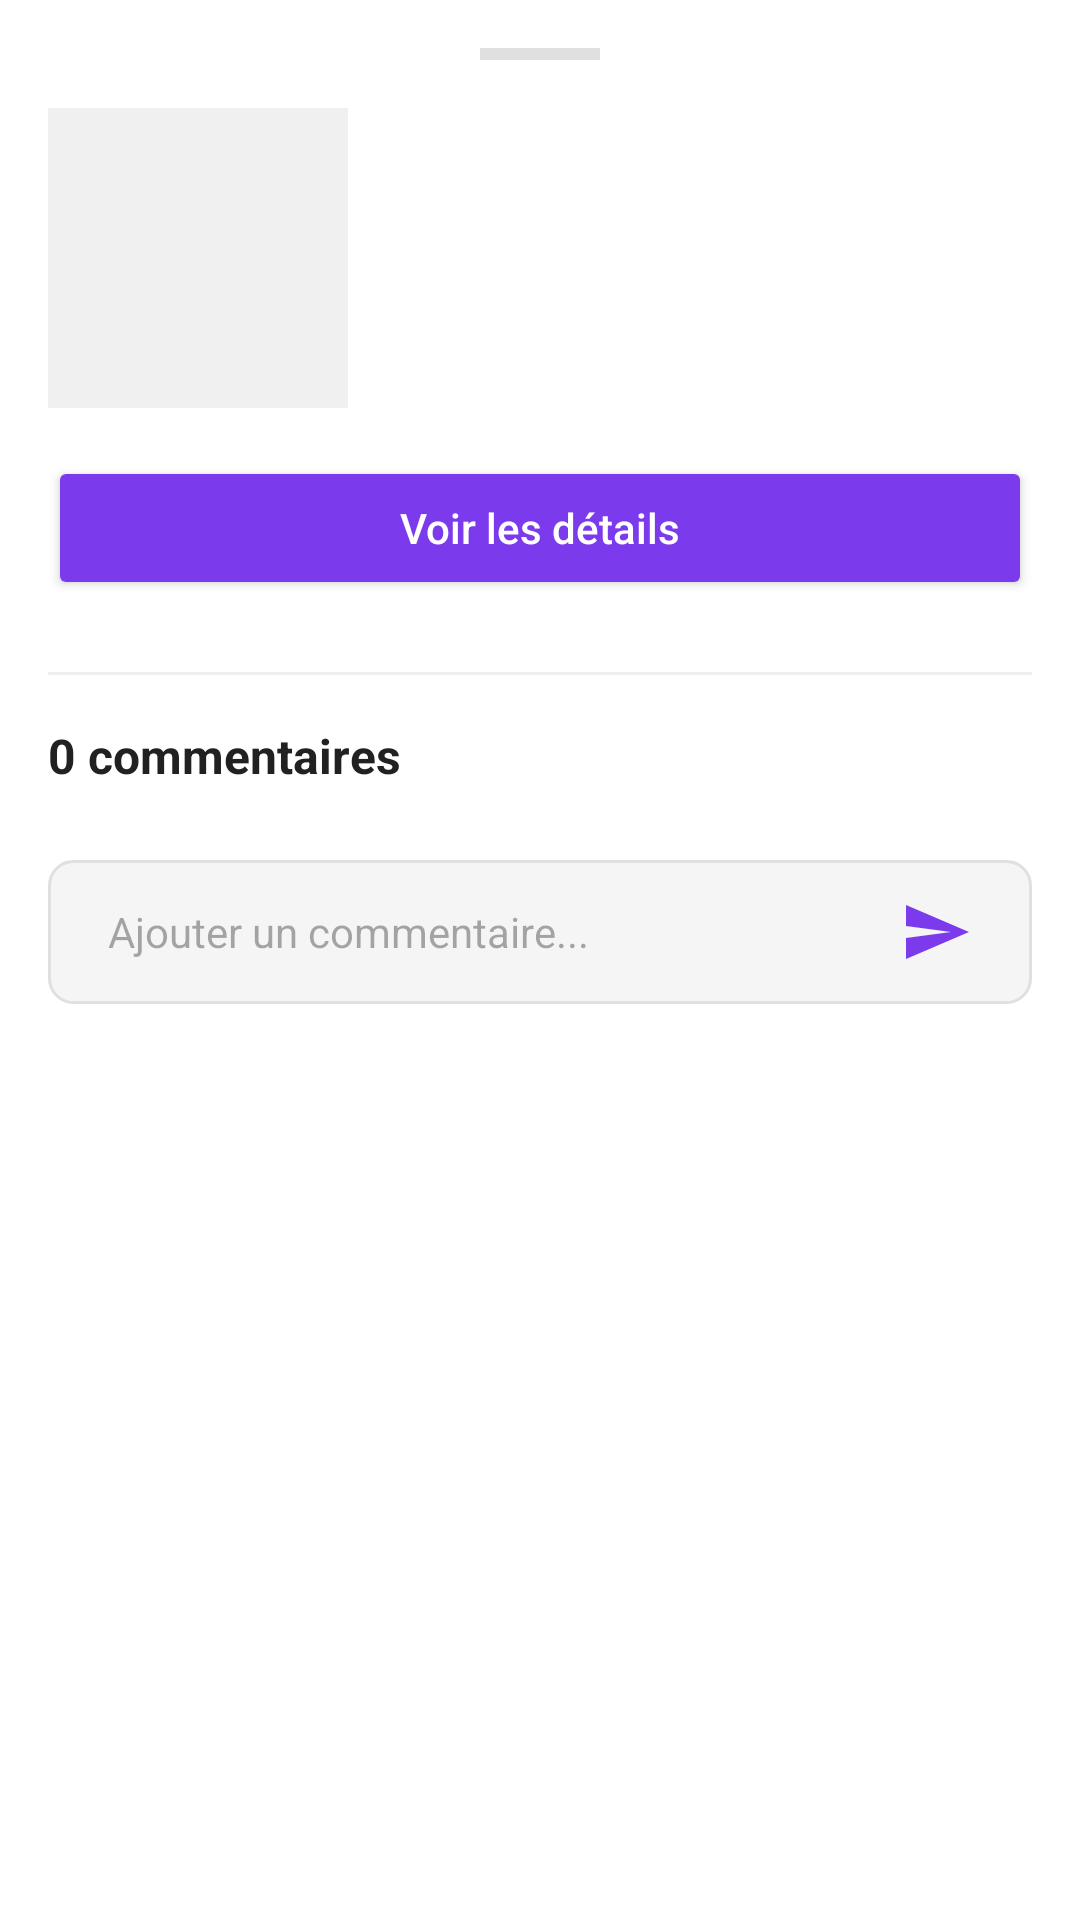

Where to tap for icons on this 1080px x 1920px app screen, as (x,y):
send: (937,932)
